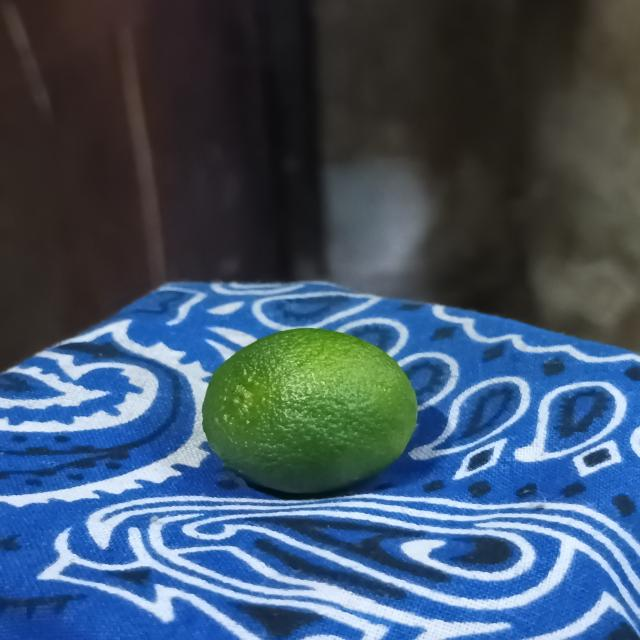heathy: (198, 328, 429, 500)
